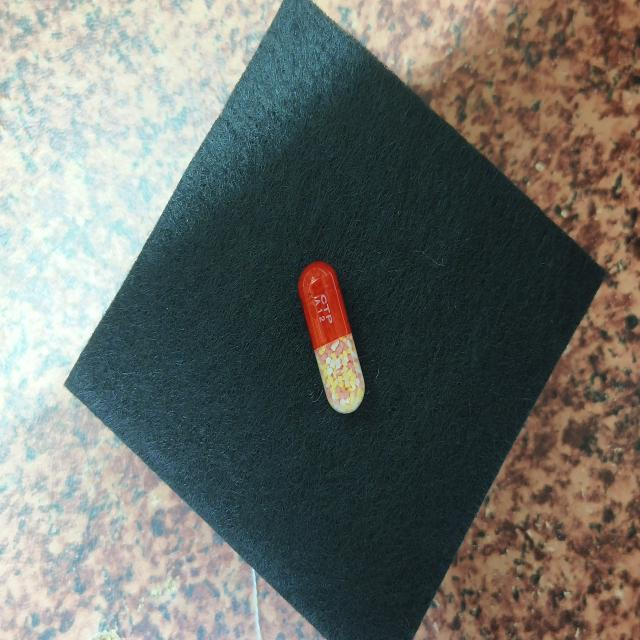Intact Capsule: (298, 260, 365, 414)
